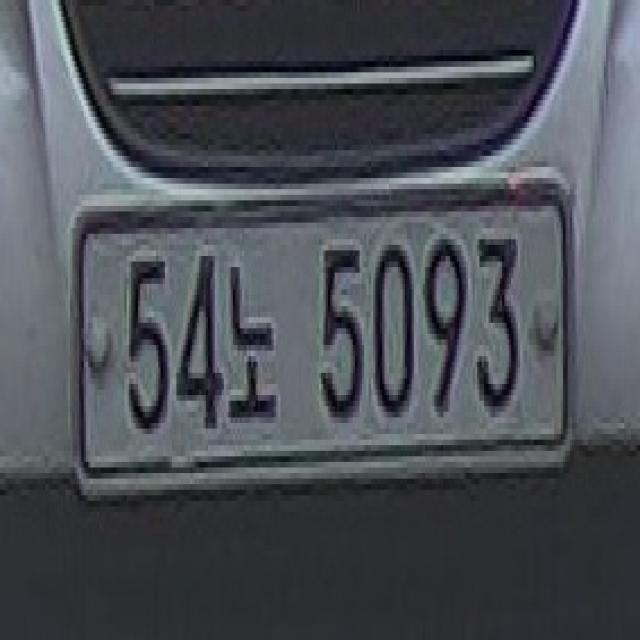0: (371, 223, 416, 456)
3: (466, 206, 522, 440)
4: (174, 228, 229, 456)
5: (118, 228, 176, 451), (314, 228, 373, 440)
9: (421, 223, 477, 445)
license_plate: (63, 161, 574, 512)
no: (224, 234, 283, 434)
